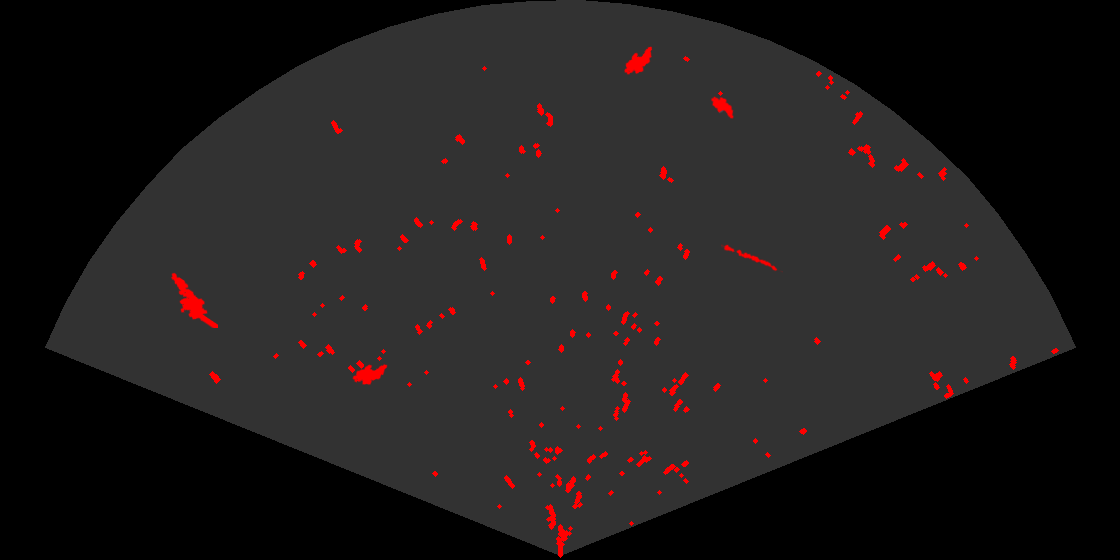AUV: (623, 45, 654, 76), (351, 362, 389, 387), (709, 95, 735, 120)
chain: (721, 243, 783, 274)
frogman: (169, 271, 218, 328)
